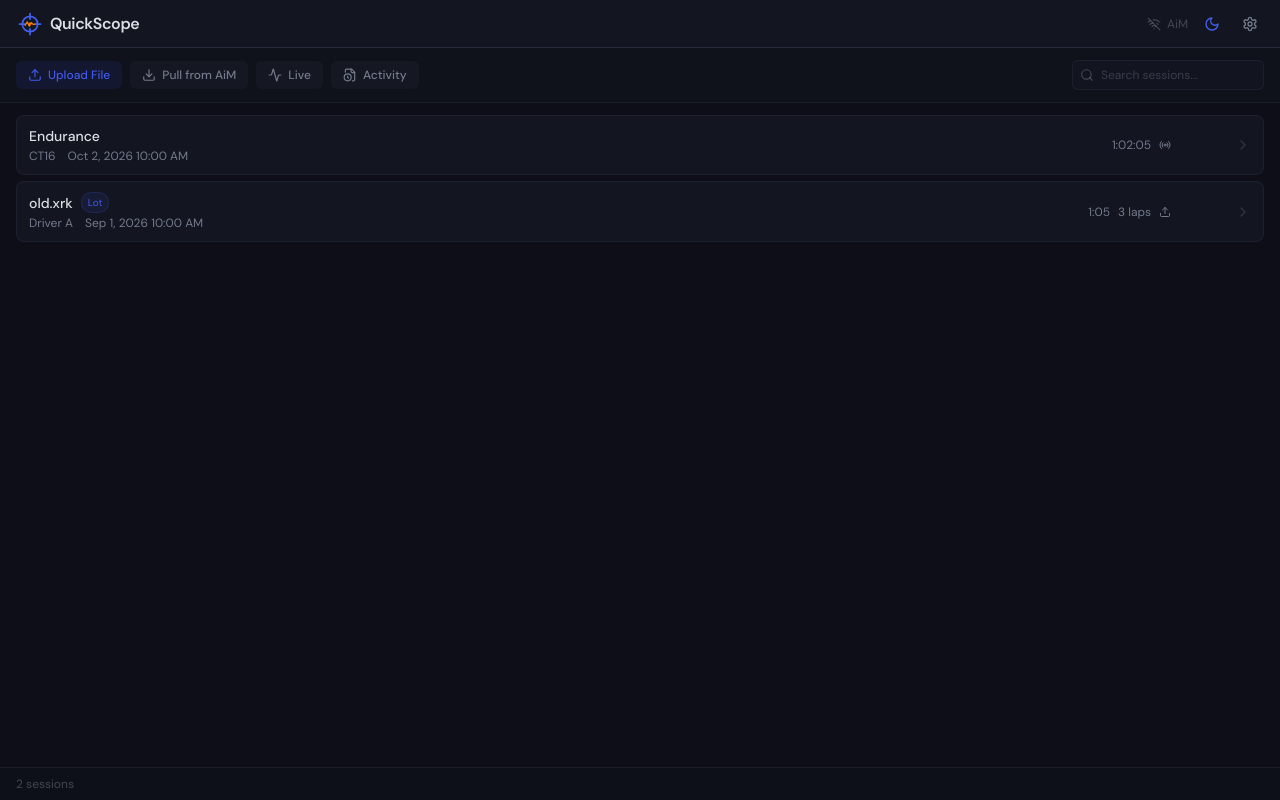
Scenario: SessionBrowser › shows empty activity logs
Expected: the text "old.xrk" is shown, left=29, top=192, right=73, bottom=212
Click the button "Activity": x=375, y=75 left=331, top=61, right=419, bottom=89
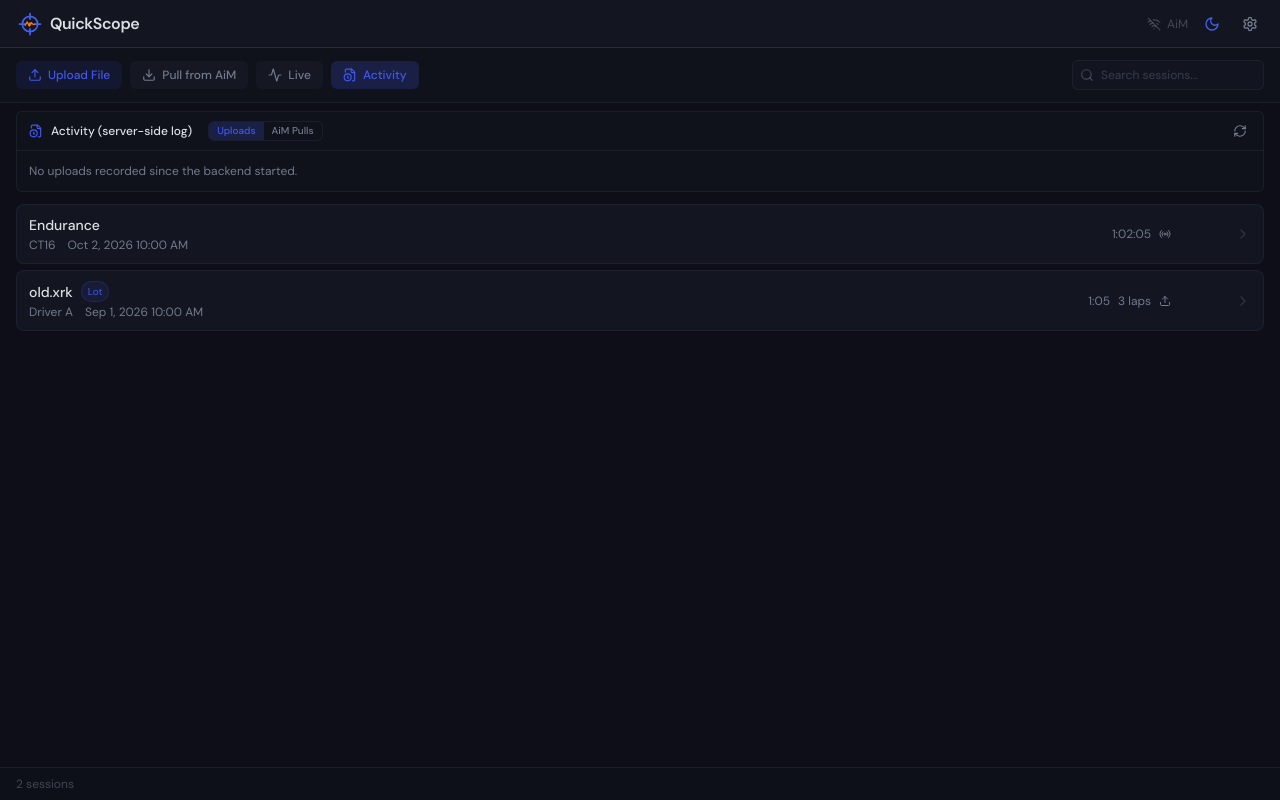
Expected: the text "No uploads recorded since the backend started." is shown, left=29, top=163, right=297, bottom=179
Click the button "AiM Pulls": x=292, y=131 left=264, top=122, right=322, bottom=140
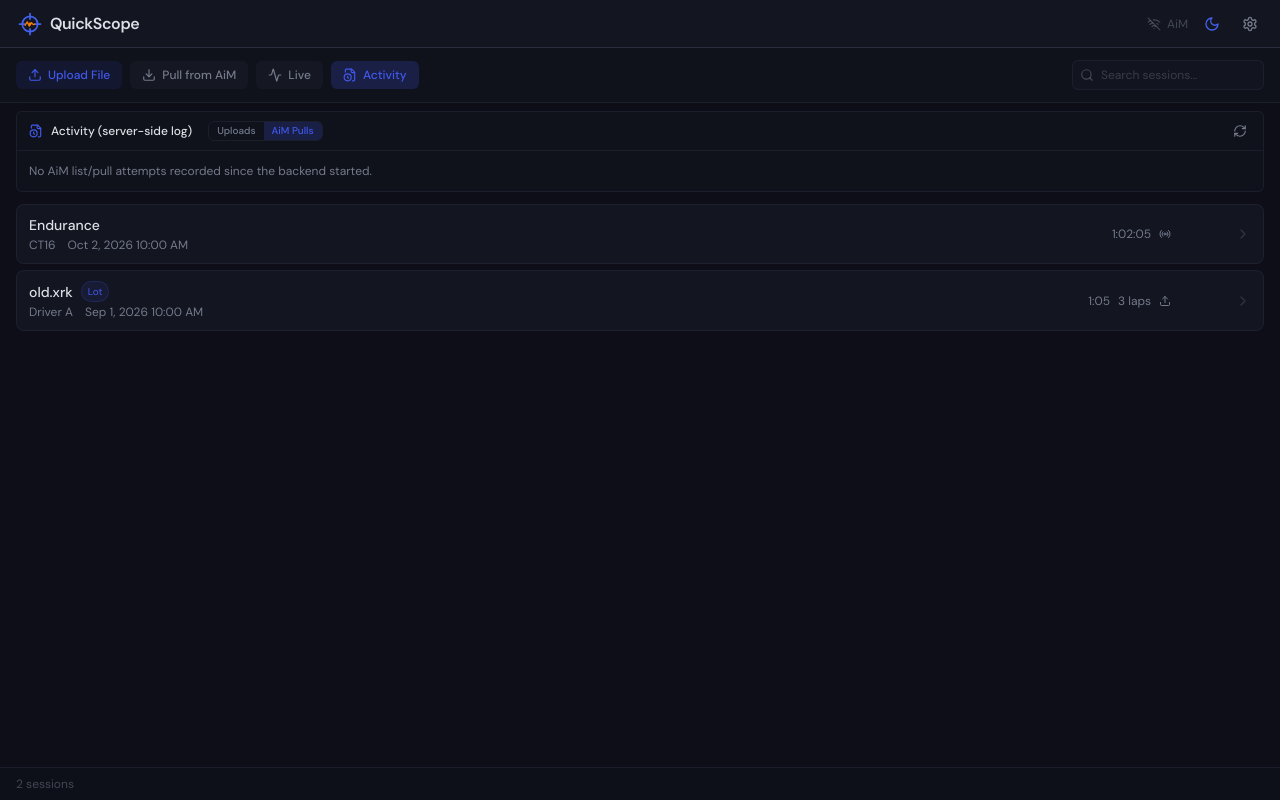
Expected: the text "No AiM list/pull attempts recorded since the backend started." is shown, left=29, top=163, right=372, bottom=179
